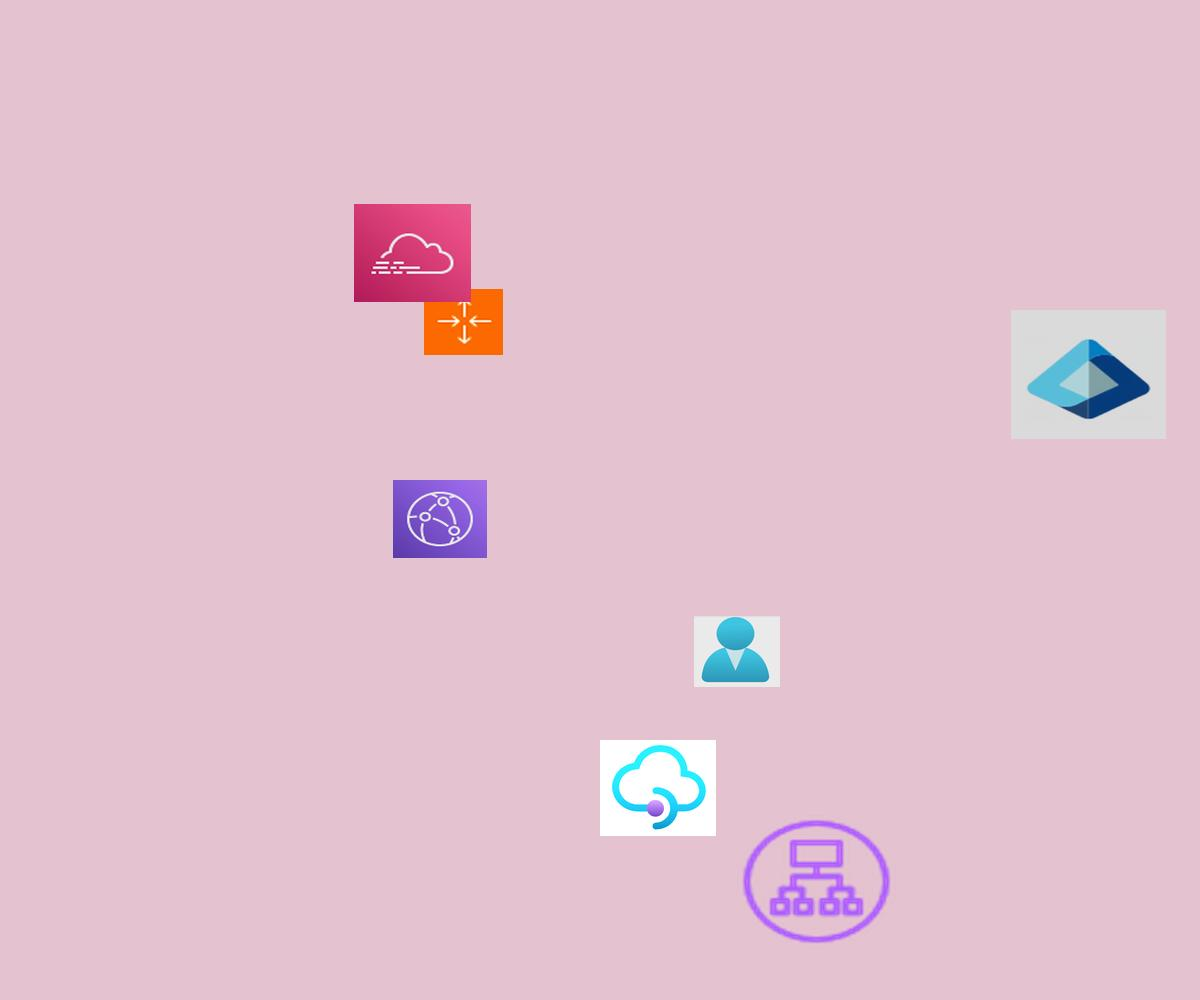AWS-CloudFront: (393, 480, 487, 558)
AWS-CloudTrail: (354, 204, 471, 302)
AWS-Res_Elastic-Load-Balancing_Application-Load-Balancer: (737, 815, 896, 948)
AWS-Scaling-group: (424, 289, 503, 355)
Azure_api_gateway: (600, 740, 716, 836)
Azure_microsoft_entra: (1011, 310, 1166, 439)
Azure_users: (694, 616, 780, 687)
